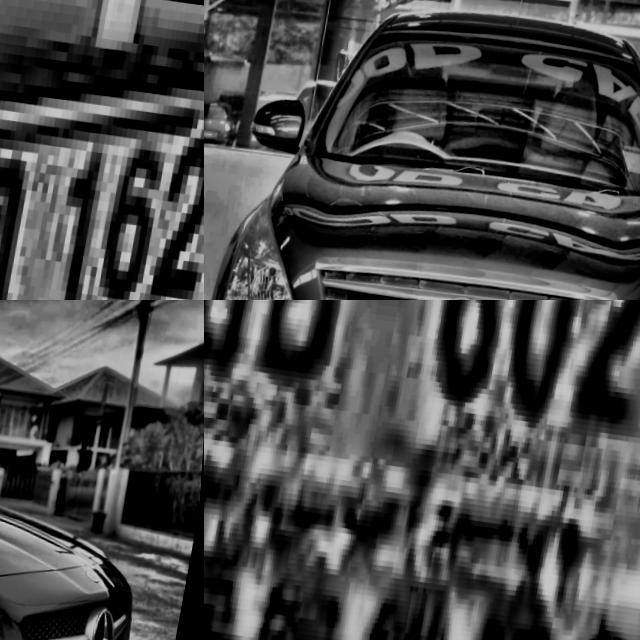license-plate: (204, 300, 640, 640), (0, 0, 204, 300)
